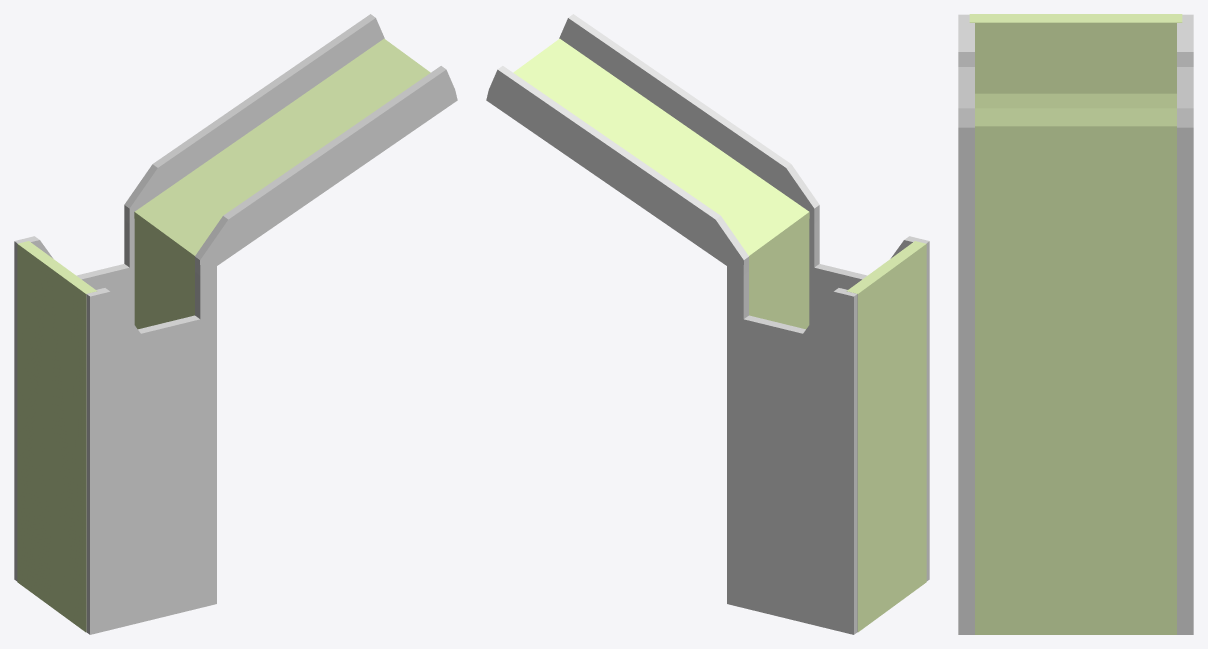
Rendered from Safe (2).fbx.
3 renders of one model, left to right at view 1: azimuth 30°, elevation 25°; view 2: azimuth 150°, elevation 25°; view 3: azimuth 270°, elevation 25°, orthographic. The views are drawn at different scales.
Visible parts, largest first — view 1: Cube__2_; view 2: Cube__2_; view 3: Cube__2_.
Boxes of the visible parts, x1,y1,x2,y2 form: Cube__2_: [14, 14, 457, 634]; Cube__2_: [486, 14, 929, 634]; Cube__2_: [958, 14, 1193, 634].
Bounding box in the file's own units: 638 × 792 × 228.
